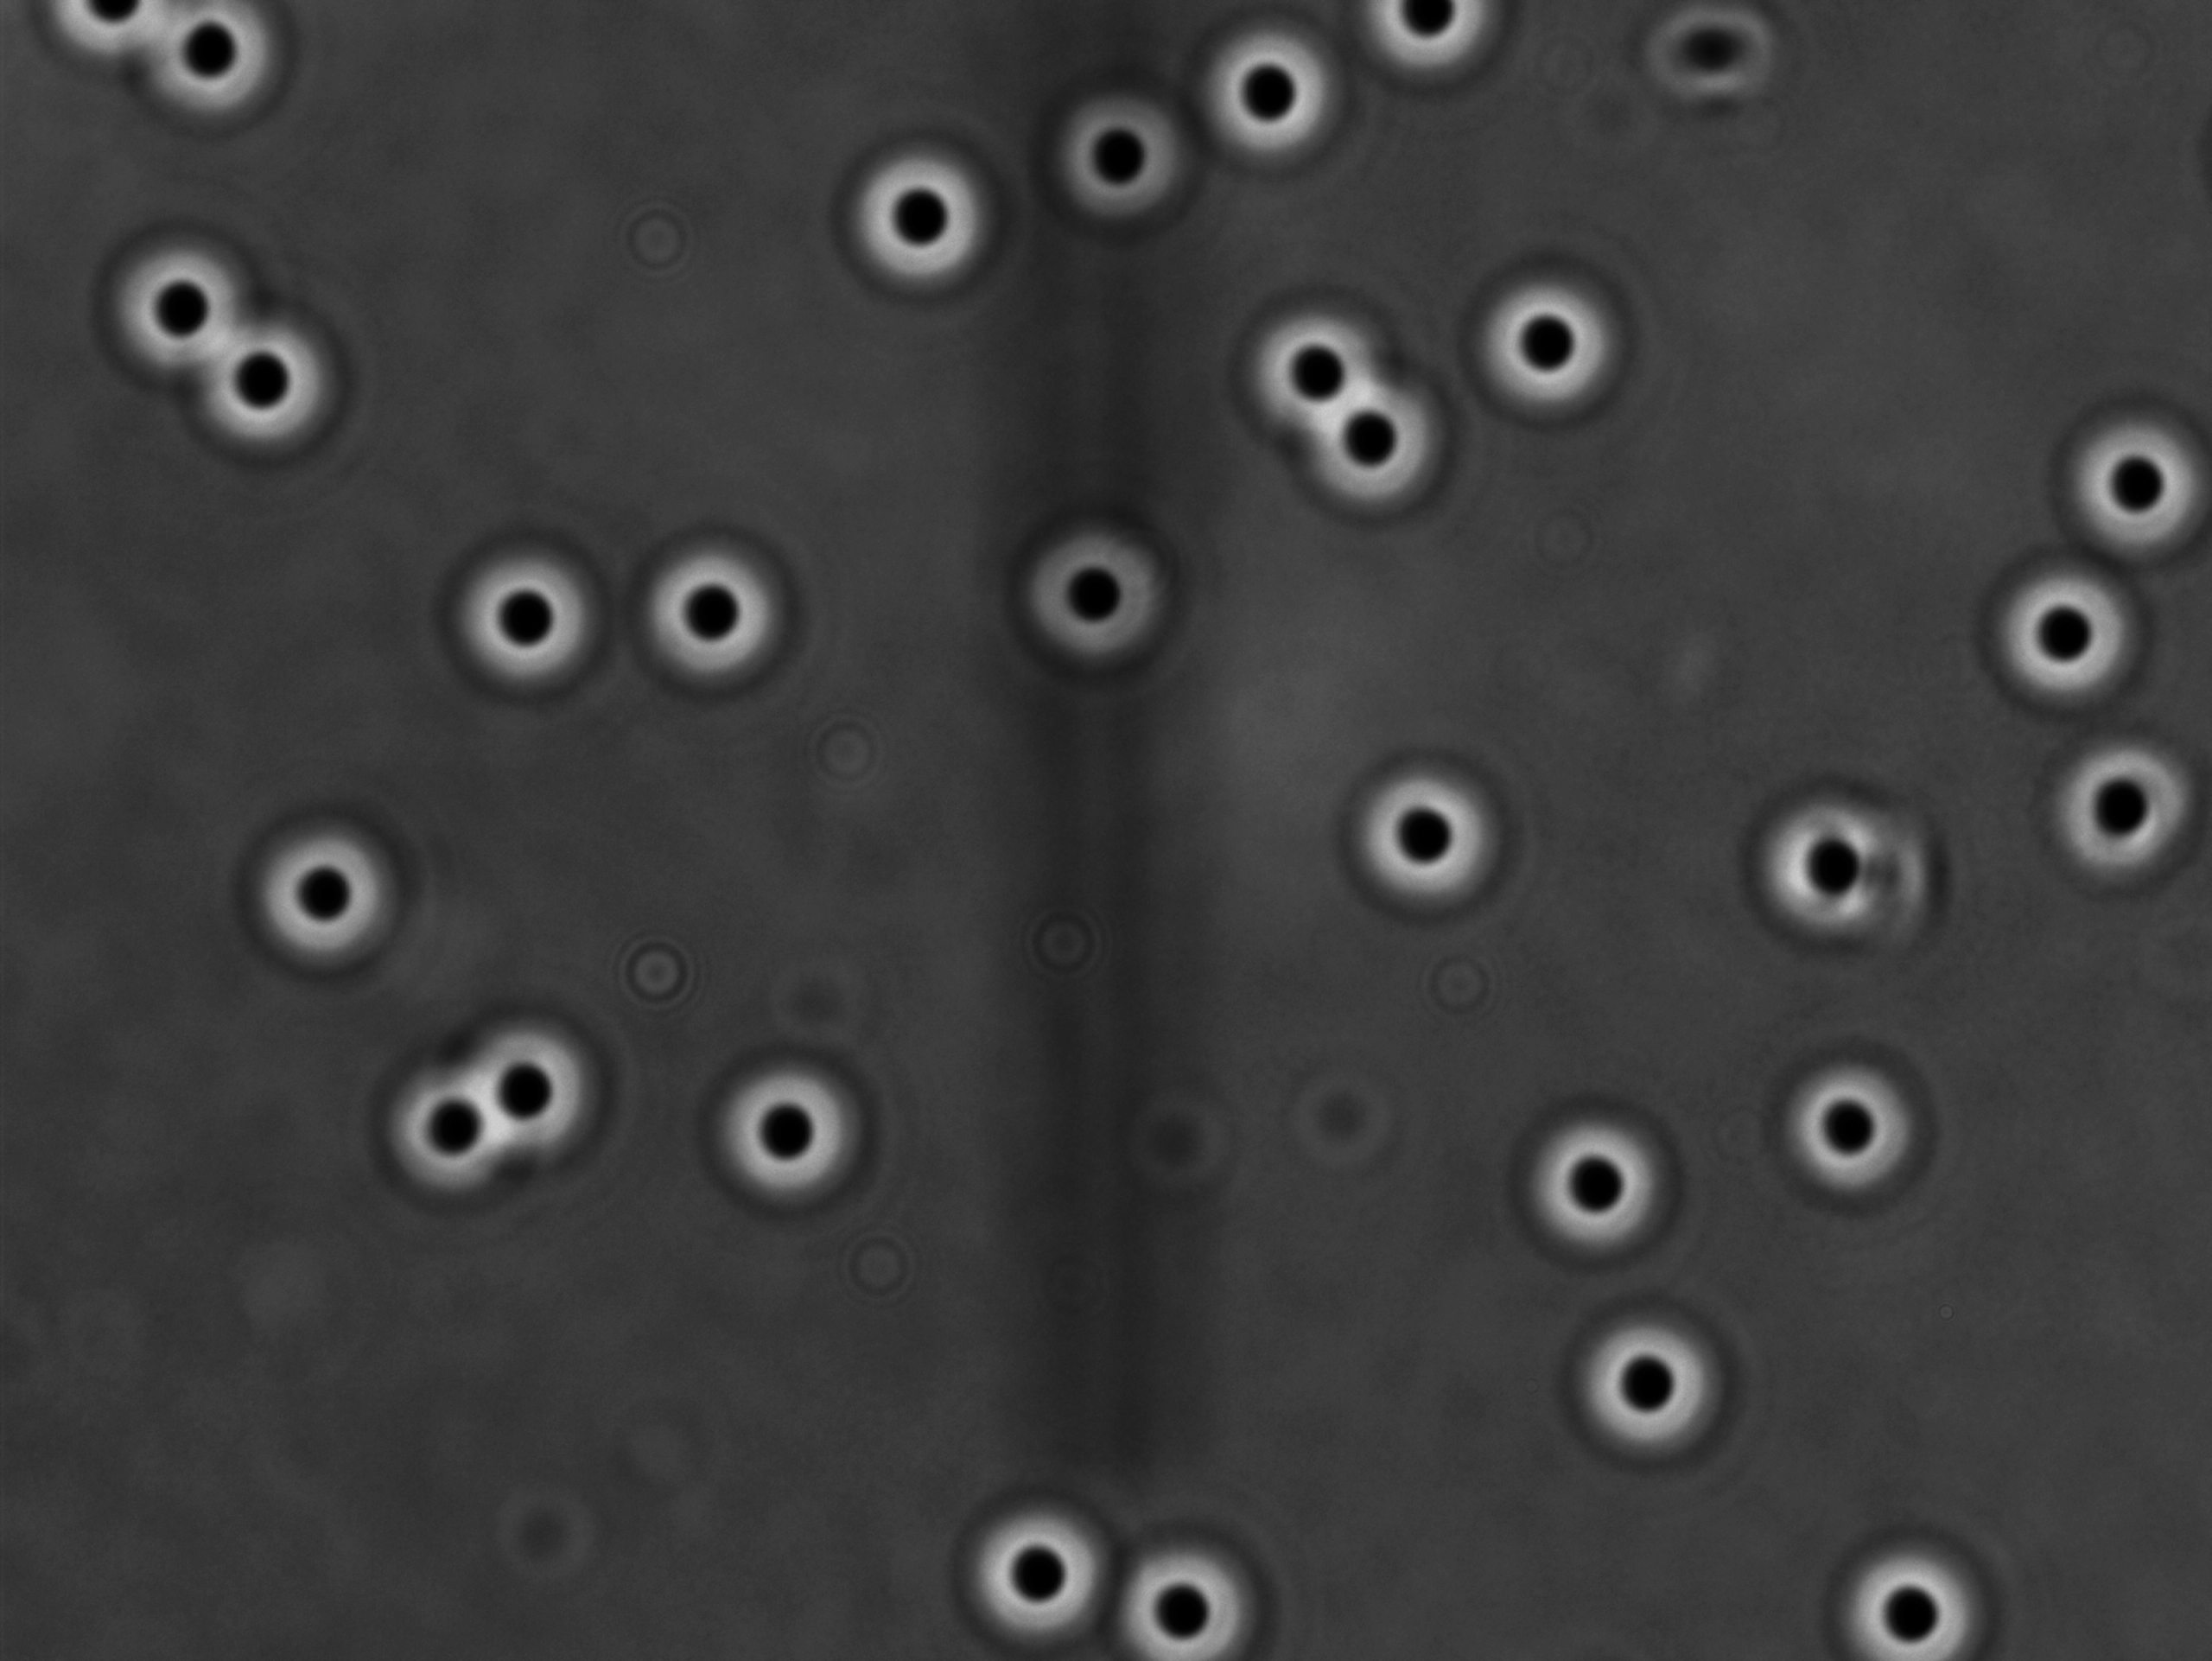depth:-60: (1729, 766, 1954, 958), (1490, 1085, 1692, 1270), (1963, 536, 2163, 721), (1549, 1291, 1751, 1471), (2034, 379, 2212, 565), (1329, 750, 1516, 926), (1755, 1042, 1942, 1218), (351, 1052, 539, 1225), (1005, 515, 1197, 684), (2032, 721, 2212, 897), (830, 138, 1014, 309), (951, 1483, 1134, 1649), (438, 536, 611, 710), (1457, 260, 1633, 429), (239, 808, 408, 982), (1228, 283, 1410, 445), (705, 1047, 876, 1213), (1027, 75, 1198, 239), (1818, 1525, 2022, 1661), (632, 529, 795, 694), (461, 1000, 621, 1169), (84, 229, 258, 384), (1097, 1523, 1287, 1661), (1284, 358, 1453, 509), (190, 309, 349, 461), (1186, 23, 1345, 171)
